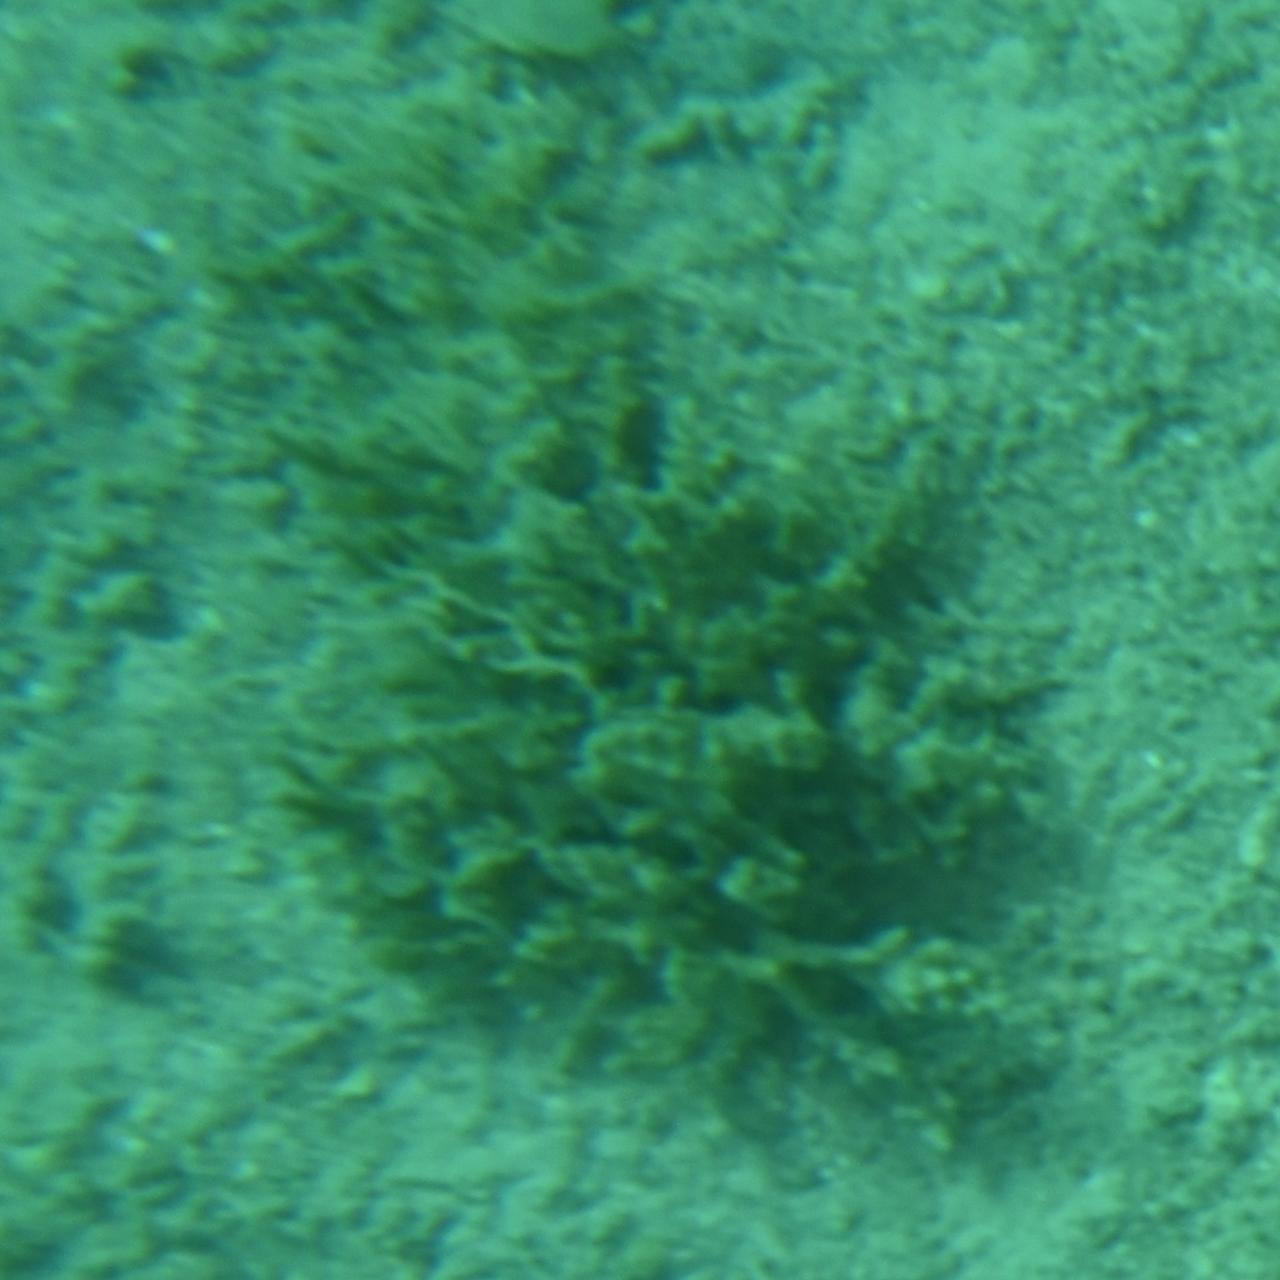Phaeophyceae -cfr Cystoseira-: (212, 70, 1068, 1210)
